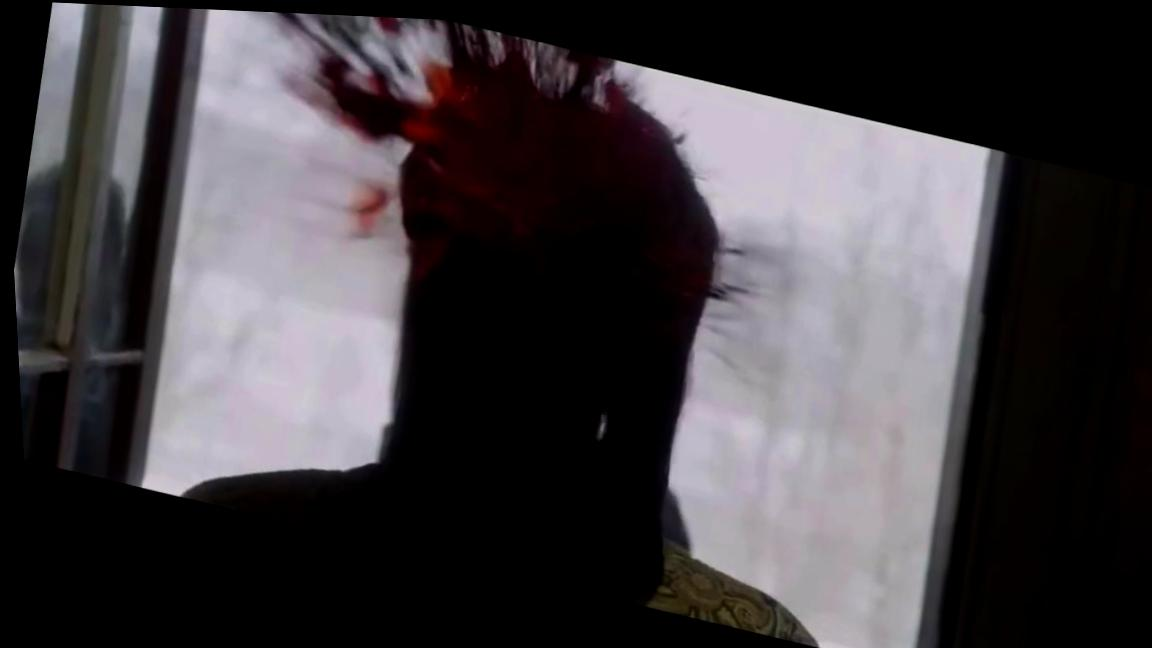Fire: (182, 10, 733, 600), (343, 175, 393, 237)
